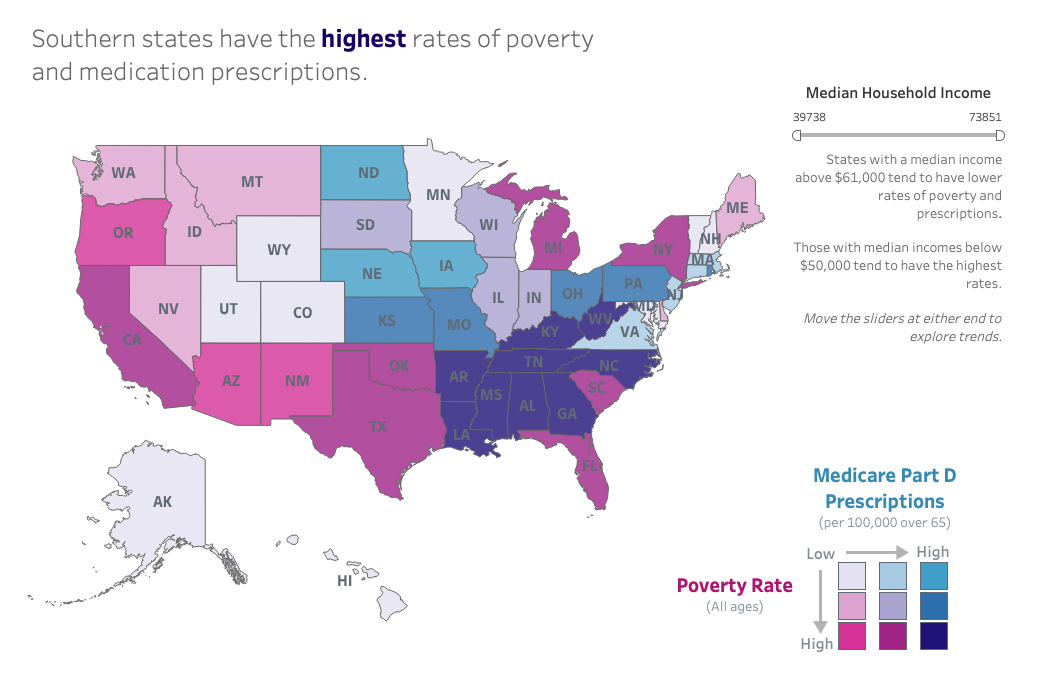

Layout of this report page (visuals, bound fields, positions):
{"tool":"tableau","page":{"name":"Bivariate map (poverty + prescriptions)","canvas":[1024,768],"ordinal":0},"visuals":[{"type":"worksheet","box":[8,68,571,102]},{"type":"worksheet","title":"Lower 48","mark":"Multipolygon","param":"[federated.1g26nsn0rlhz3w1gugjvj1bomph3].[none:Median Household Income:qk]","box":[767,146,221,72]},{"type":"worksheet","title":"Lower 48","mark":"Multipolygon","box":[27,151,745,503]},{"type":"worksheet","box":[769,213,215,198]},{"type":"worksheet","title":"AK","mark":"Multipolygon","box":[6,482,231,221]},{"type":"worksheet","box":[765,520,198,81]},{"type":"worksheet","title":"HI","mark":"Multipolygon","box":[208,551,224,161]},{"type":"worksheet","title":"Legend","mark":"Square","rows":["Calculation_706009671830368257"],"cols":["Calculation_706009671829499904"],"box":[790,569,158,153]},{"type":"worksheet","box":[893,600,44,30]},{"type":"worksheet","box":[783,602,43,30]},{"type":"worksheet","param":"/Users/Isabel/Downloads/right-arrow.png","box":[825,609,87,15]},{"type":"worksheet","param":"/Users/Isabel/Downloads/down-arrow.png","box":[792,634,22,64]},{"type":"worksheet","box":[653,635,122,44]},{"type":"worksheet","box":[777,692,41,30]}]}

Visuals, with their boxes on the page's 1024x768 design canvas (x1, y1, x2, y2). These are canvas units, not pixel positions in the 1047x694 screenshot, which may show the page scaled, cropped or inside an application window:
worksheet: [8,68,579,170]
"Lower 48" worksheet (Multipolygon marks): [767,146,988,218]
"Lower 48" worksheet (Multipolygon marks): [27,151,772,654]
worksheet: [769,213,984,411]
"AK" worksheet (Multipolygon marks): [6,482,237,703]
worksheet: [765,520,963,601]
"HI" worksheet (Multipolygon marks): [208,551,432,712]
"Legend" worksheet (Square marks): [790,569,948,722]
worksheet: [893,600,937,630]
worksheet: [783,602,826,632]
worksheet: [825,609,912,624]
worksheet: [792,634,814,698]
worksheet: [653,635,775,679]
worksheet: [777,692,818,722]
